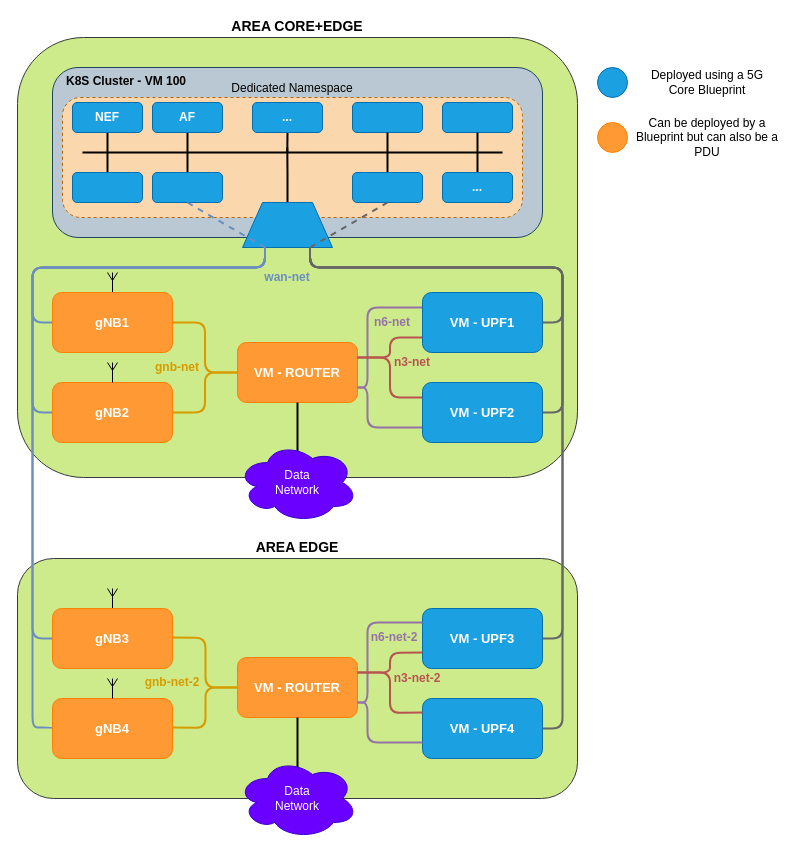
Image size: 805x856. Some labels were removed from this diagram. The centre of each missing label's shape, as x and y in pixels:
"AMF" goes at (x=187, y=187).
"NWDAF" goes at (x=107, y=187).
"PCF" goes at (x=387, y=117).
"SMF" goes at (x=387, y=187).
"SVCs" goes at (x=287, y=225).
"UDR" goes at (x=477, y=117).
